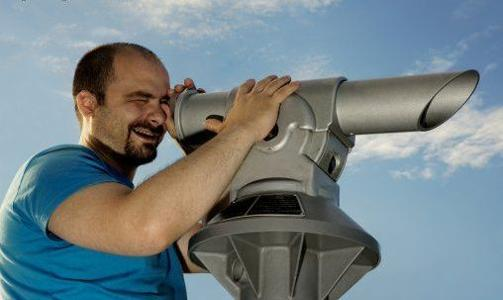person: (3, 43, 297, 300)
